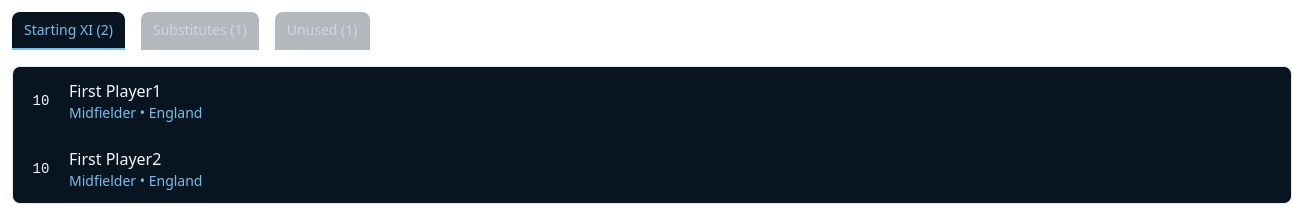
Test: TeamLineup › switches to the Unused tab on click
This screenshot has width=1292, height=221.
Step 1. Click the button "Unused (1)" → (322, 31), box [275,12,370,50]
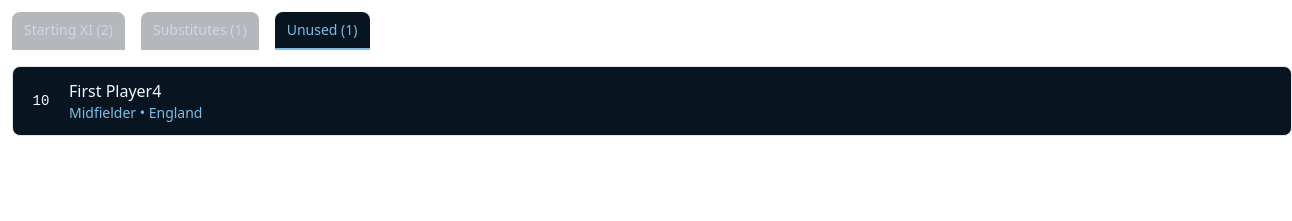
Check: the text "First Player4" is shown, box [69,79,161,103]
